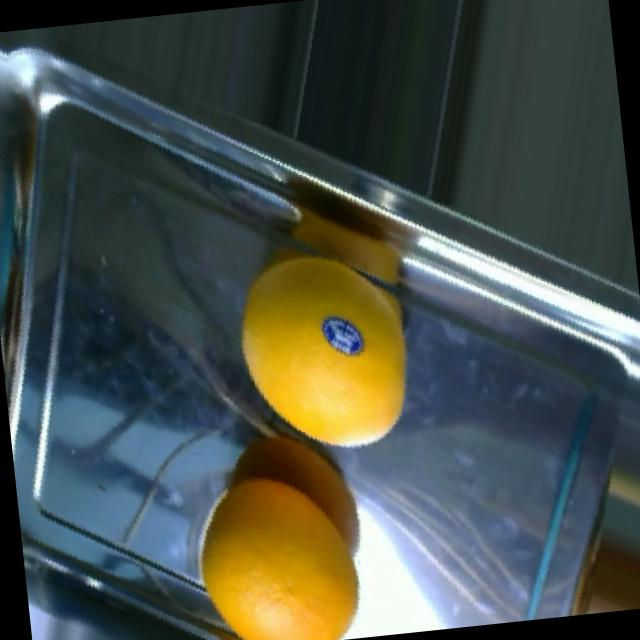Fruit: (207, 210, 397, 428), (533, 462, 640, 617)
